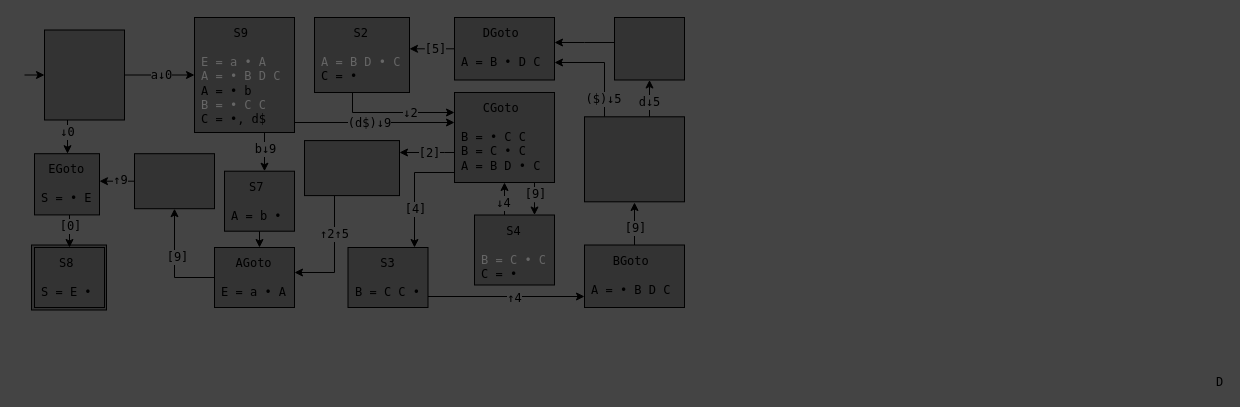
Image size: 1240x407. Some labels were removed from this diagram. Each missing label, with the centre of its shape:
"S0 S = • E E = • a A E = •, $" belongs at (84,74).
"S1 A = B D C •" belongs at (352,168).
"S10 D = d •" belongs at (649,48).
"S5 A = B • D C D = • d D = •, $" belongs at (634,159).
"S6 E = a A •" belongs at (174,181).
